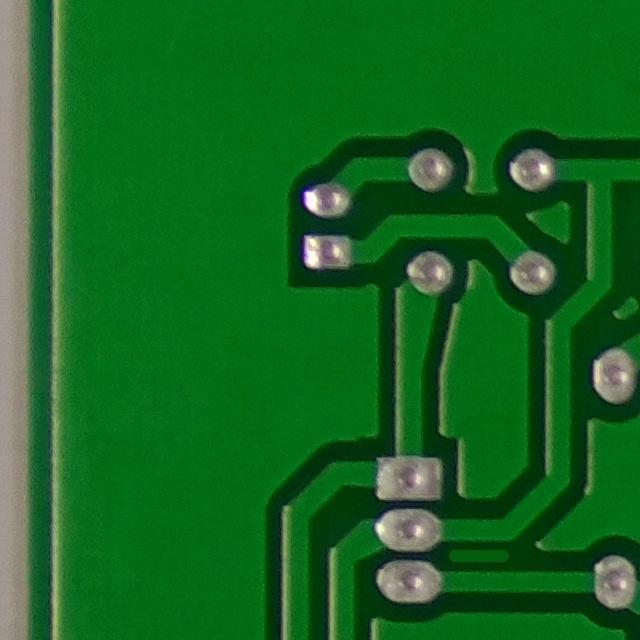spurious_copper: (427, 523, 509, 583)
